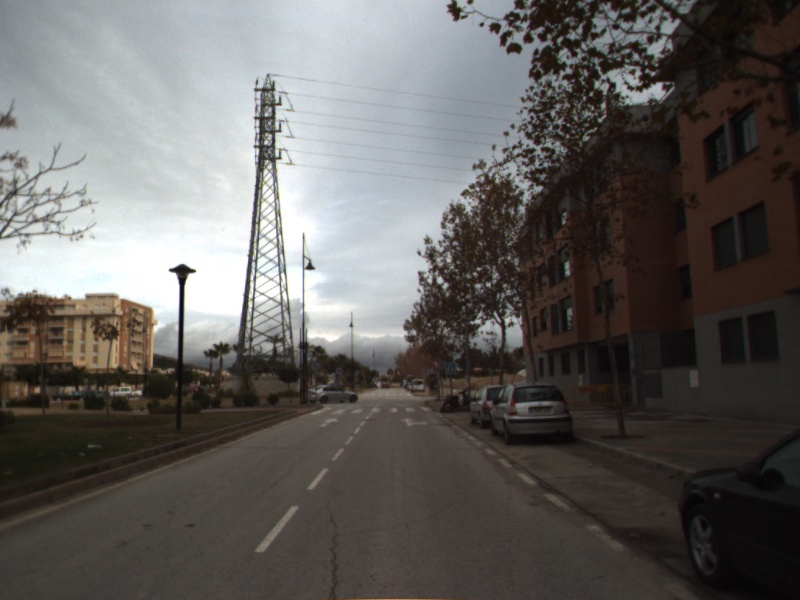STRAIGHT: (317, 416, 340, 429)
STRAIGHT_RIGHT: (398, 415, 431, 428)
